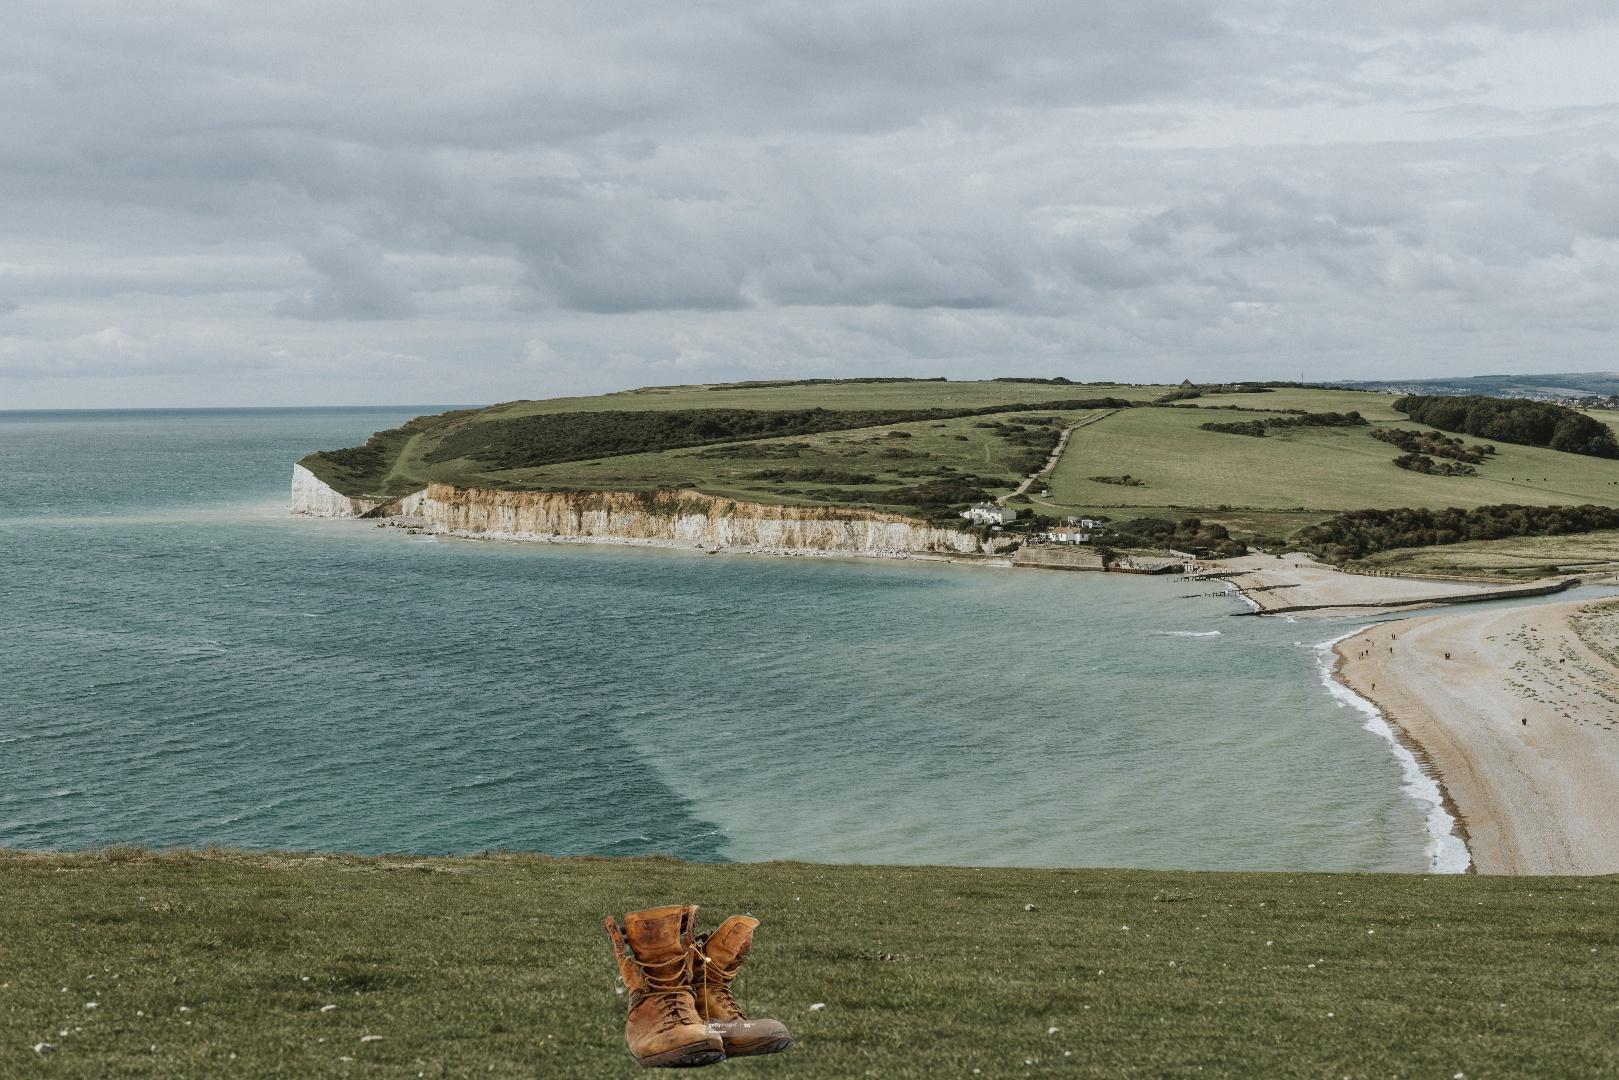shoes: (600, 900, 797, 1070)
